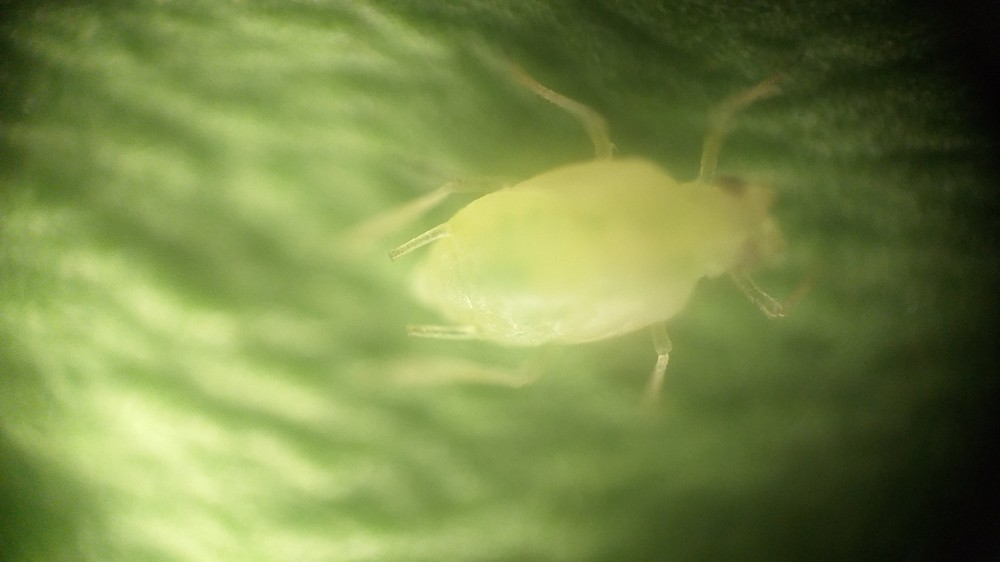Pulgon: (346, 57, 872, 416)
